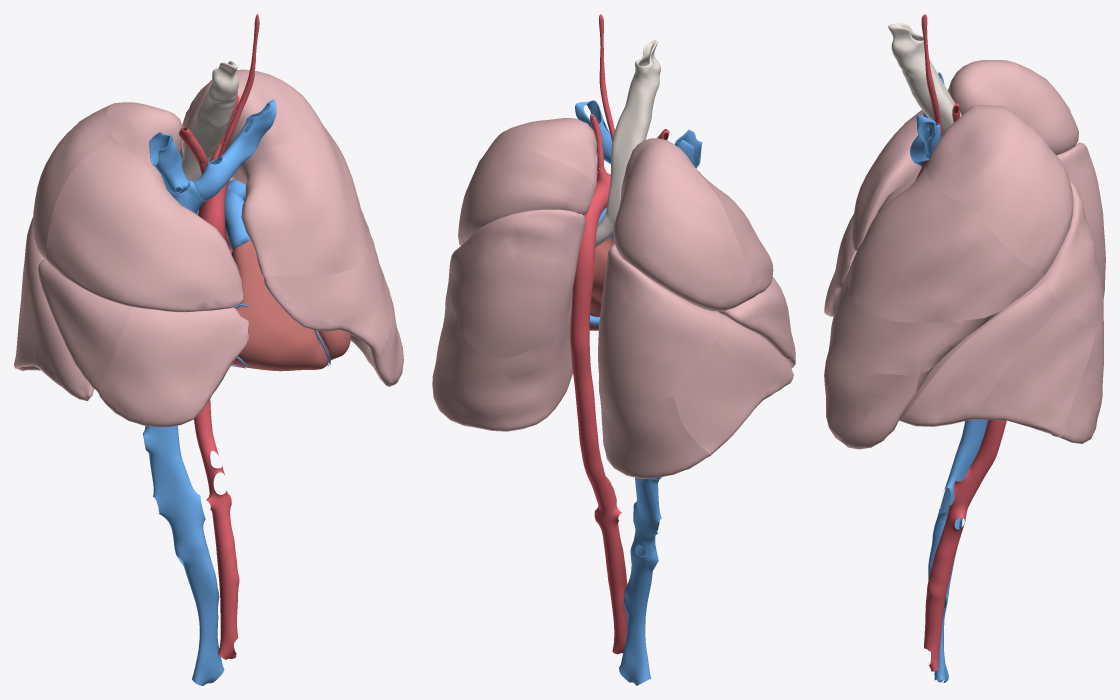
The model's file is thorax.glb.
The picture shows the model from 3 angles, left to right: view 1: azimuth 30°, elevation 25°; view 2: azimuth 150°, elevation 25°; view 3: azimuth 270°, elevation 25°; orthographic projection. The views are drawn at different scales.
Visible parts, largest first — view 1: VH_M_right_anterior_bronchopulmonary_segment, VH_M_left_anterior_bronchopulmonary_segment, VH_M_right_medial_bronchopulmonary_segment, VH_M_inferior_vena_cava_b, VH_M_left_lingula_superior_bronchopulmonary_segment, VH_M_heart_right_ventricle, VH_M_right_lateral_bronchopulmonary_segment, VH_M_descending_aorta_b, VH_M_left_apical_bronchopulmonary_segment, VH_M_right_posterior_bronchopulmonary_segment, VH_M_right_anterior_basal_bronchopulmonary_segment, VH_M_trachea (+9 smaller); view 2: VH_M_left_superior_bronchopulmonary_segment, VH_M_right_posterior_bronchopulmonary_segment, VH_M_right_superior_bronchopulmonary_segment, VH_M_left_posetrior_basal_bronchopulmonary_segment, VH_M_left_posterior_bronchopulmonary_segment, VH_M_right_posterior_basal_bronchopulmonary_segment, VH_M_right_lateral_basal_bronchopulmonary_segment, VH_M_inferior_vena_cava_b, VH_M_descending_aorta_b, VH_M_trachea, VH_M_left_apical_bronchopulmonary_segment, VH_M_descending_aorta_a (+10 smaller); view 3: VH_M_left_anterior_bronchopulmonary_segment, VH_M_left_lateral_basal_bronchopulmonary_segment, VH_M_left_posterior_bronchopulmonary_segment, VH_M_left_anterior_basal_bronchopulmonary_segment, VH_M_left_lingula_superior_bronchopulmonary_segment, VH_M_left_apical_bronchopulmonary_segment, VH_M_left_lingula_inferior_bronchopulmonary_segment, VH_M_descending_aorta_b, VH_M_left_superior_bronchopulmonary_segment, VH_M_right_anterior_bronchopulmonary_segment, VH_M_right_posterior_bronchopulmonary_segment, VH_M_trachea (+8 smaller).
Part boxes in pixels (x1,y1,x2,y2): VH_M_right_anterior_bronchopulmonary_segment: (46, 137, 244, 312); VH_M_left_anterior_bronchopulmonary_segment: (238, 124, 374, 276); VH_M_right_medial_bronchopulmonary_segment: (99, 307, 248, 427); VH_M_inferior_vena_cava_b: (143, 425, 224, 685); VH_M_left_lingula_superior_bronchopulmonary_segment: (261, 243, 390, 356); VH_M_heart_right_ventricle: (231, 240, 328, 371); VH_M_right_lateral_bronchopulmonary_segment: (38, 259, 132, 393); VH_M_descending_aorta_b: (194, 399, 239, 659); VH_M_left_apical_bronchopulmonary_segment: (187, 69, 321, 175); VH_M_right_posterior_bronchopulmonary_segment: (33, 103, 113, 263); VH_M_right_anterior_basal_bronchopulmonary_segment: (26, 253, 94, 400); VH_M_trachea: (182, 61, 238, 181); VH_M_left_superior_bronchopulmonary_segment: (451, 209, 586, 357); VH_M_right_posterior_bronchopulmonary_segment: (613, 165, 753, 311); VH_M_right_superior_bronchopulmonary_segment: (598, 244, 720, 405); VH_M_left_posetrior_basal_bronchopulmonary_segment: (432, 312, 572, 431); VH_M_left_posterior_bronchopulmonary_segment: (459, 137, 596, 242); VH_M_right_posterior_basal_bronchopulmonary_segment: (598, 376, 710, 478); VH_M_right_lateral_basal_bronchopulmonary_segment: (674, 340, 762, 455); VH_M_inferior_vena_cava_b: (619, 477, 662, 685); VH_M_descending_aorta_b: (576, 403, 627, 654); VH_M_trachea: (606, 40, 660, 228); VH_M_left_apical_bronchopulmonary_segment: (493, 118, 597, 184); VH_M_descending_aorta_a: (570, 224, 596, 408); VH_M_left_anterior_bronchopulmonary_segment: (847, 166, 1044, 322); VH_M_left_lateral_basal_bronchopulmonary_segment: (974, 306, 1095, 437); VH_M_left_posterior_bronchopulmonary_segment: (979, 128, 1073, 274); VH_M_left_anterior_basal_bronchopulmonary_segment: (899, 282, 1059, 426); VH_M_left_lingula_superior_bronchopulmonary_segment: (824, 271, 1038, 388); VH_M_left_apical_bronchopulmonary_segment: (926, 105, 1034, 213); VH_M_left_lingula_inferior_bronchopulmonary_segment: (825, 365, 935, 449); VH_M_descending_aorta_b: (924, 420, 1006, 671); VH_M_left_superior_bronchopulmonary_segment: (1042, 180, 1103, 335); VH_M_right_anterior_bronchopulmonary_segment: (851, 110, 923, 250); VH_M_right_posterior_bronchopulmonary_segment: (1005, 62, 1078, 154); VH_M_trachea: (888, 23, 961, 134).
Size of the model in its own units: 0.2594 by 0.5142 by 0.1897.
